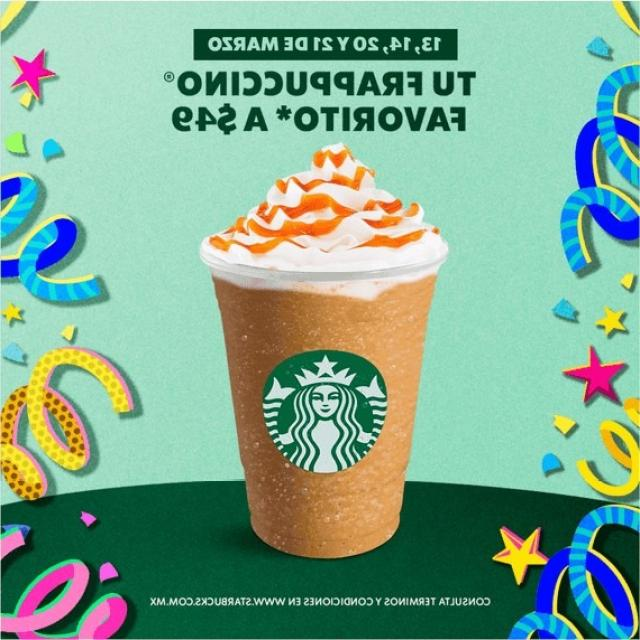starbucks: (262, 346, 398, 478)
